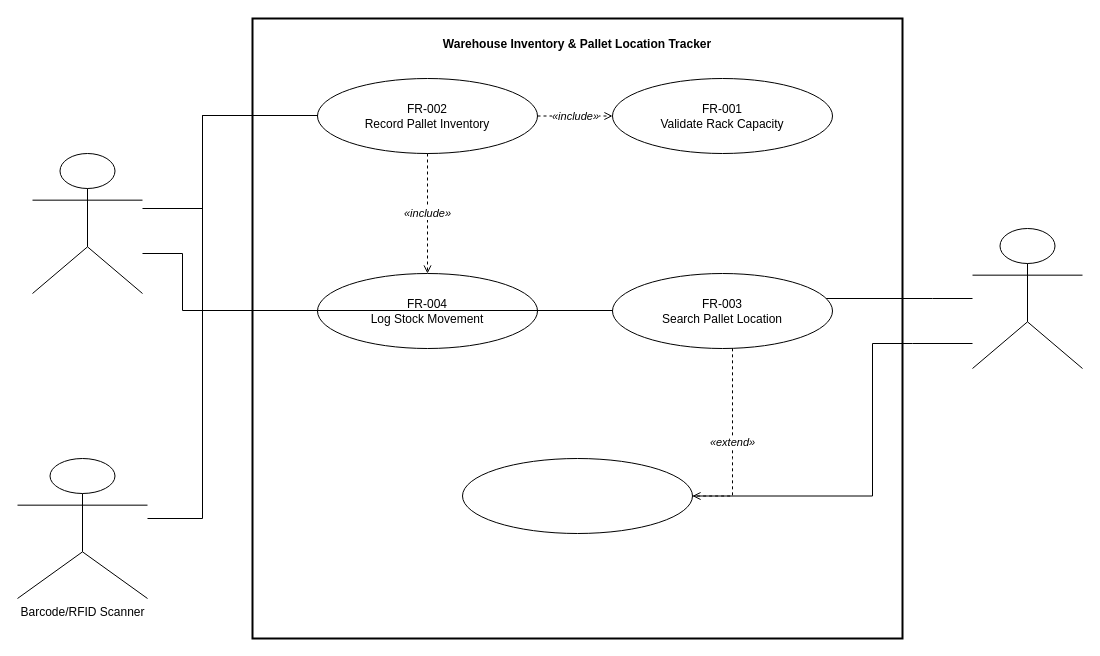
The diagram is 1100 pixels wide and 656 high, and some of its shapes have lost their labels. The shapes that lost their labels are listed below. From the top down, each one's box as (x1, y1, x2, y2) in pixels, then its label:
(32, 152, 142, 294): Warehouse Operator
(972, 228, 1082, 368): Logistics Supervisor
(462, 458, 692, 534): FR-005 View Rack Occupancy
